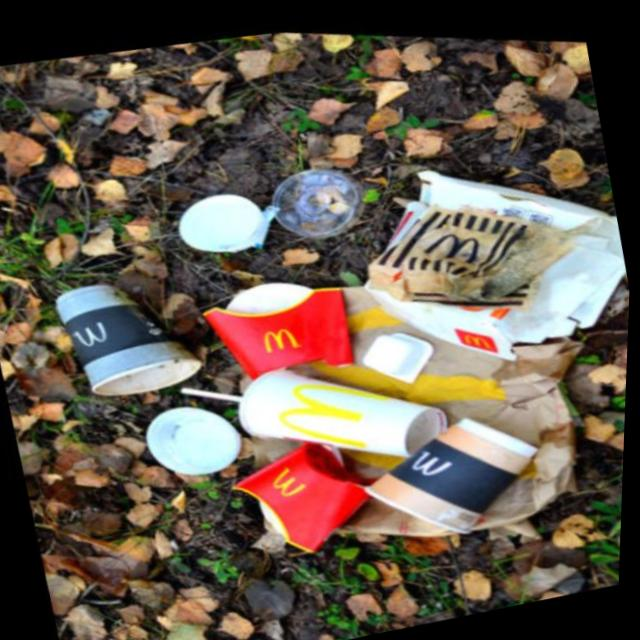leaf: (341, 366, 566, 563), (12, 232, 229, 433), (224, 319, 468, 494), (240, 120, 393, 258), (119, 380, 263, 496), (152, 152, 284, 274)
trash: (320, 91, 637, 420), (208, 402, 410, 584), (174, 241, 387, 412)
